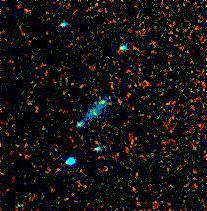star: (90, 91, 120, 121)
